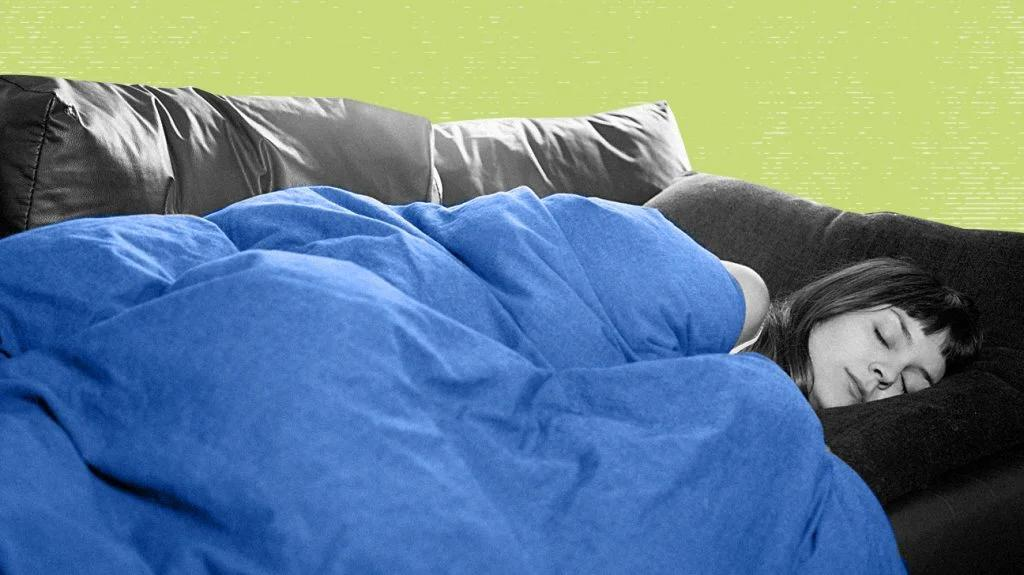blanket: (0, 182, 907, 575)
